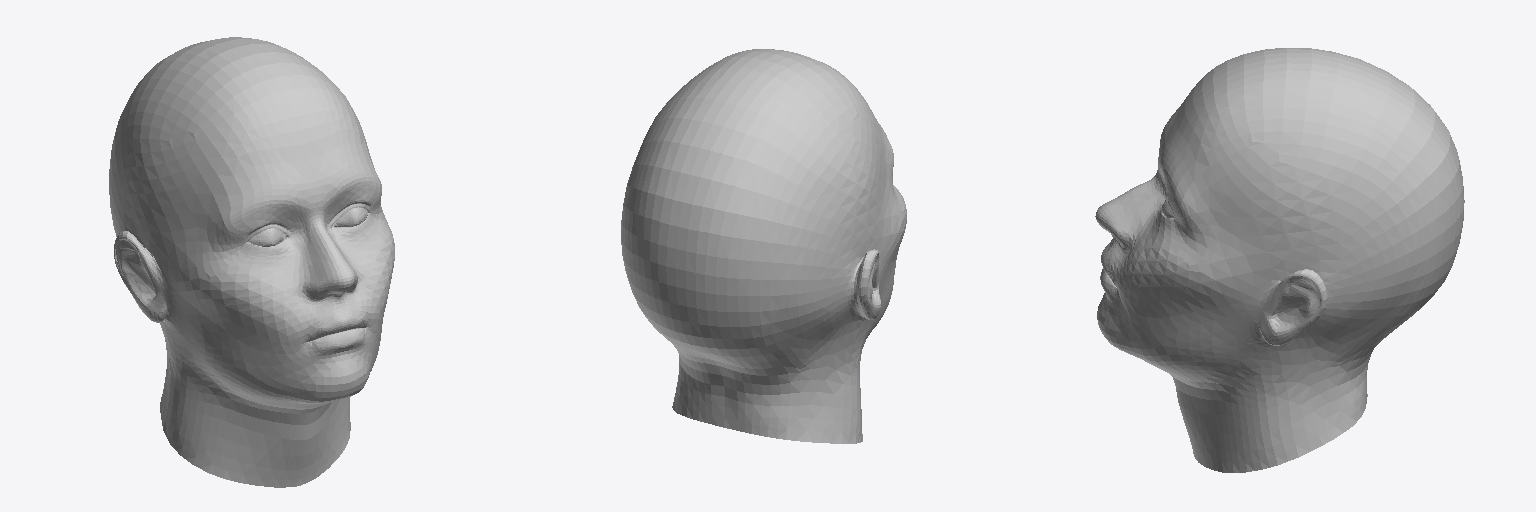
The picture shows the model from 3 angles: view 1: azimuth 30°, elevation 25°; view 2: azimuth 150°, elevation 25°; view 3: azimuth 270°, elevation 25°; orthographic projection.
Visible parts, largest first — view 1: FaceGen; view 2: FaceGen; view 3: FaceGen.
Part boxes in pixels (left/top/right/bottom): FaceGen: left=109, top=37, right=394, bottom=487; FaceGen: left=621, top=49, right=906, bottom=443; FaceGen: left=1095, top=48, right=1464, bottom=472.
Size of the model in its own units: 180 by 282 by 237.